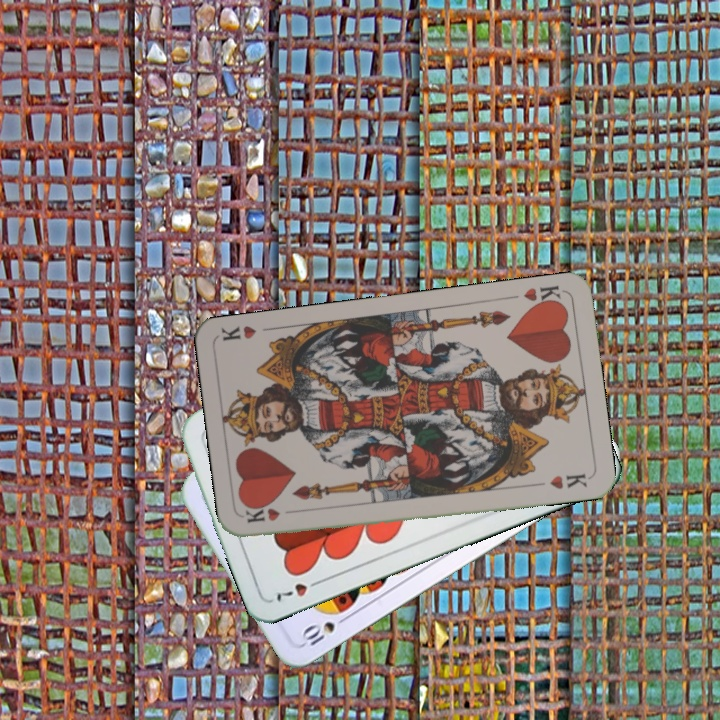H7: (269, 575, 326, 605)
HK: (519, 281, 566, 311), (242, 504, 301, 526)
S10: (297, 611, 352, 649)
